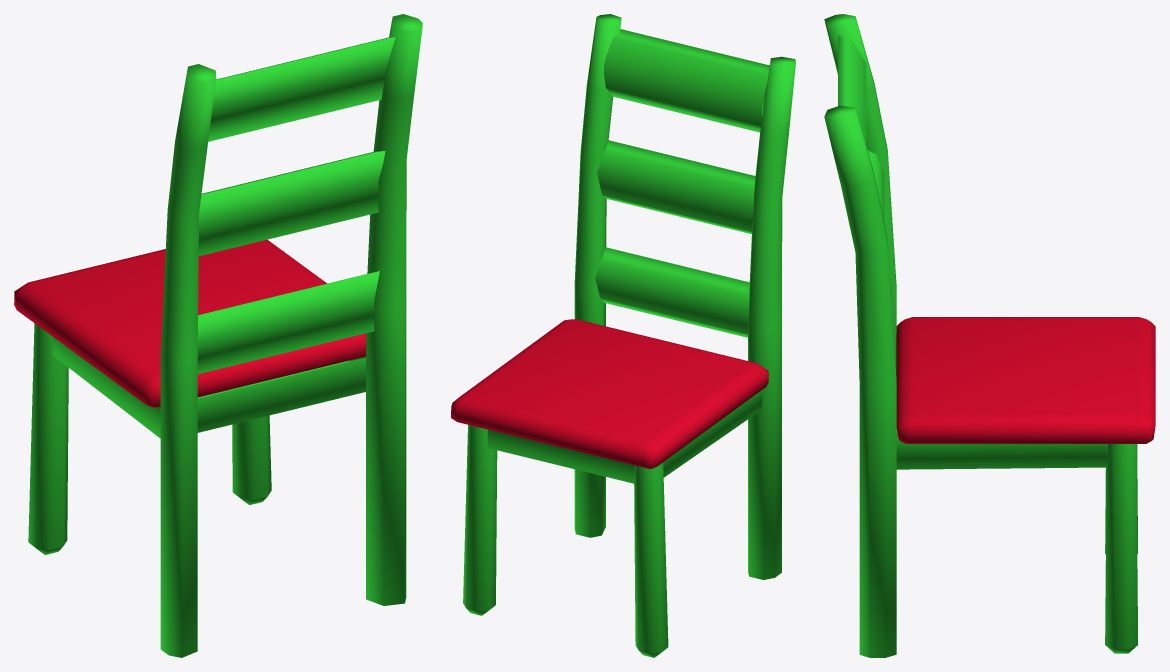
File: DiningChair.fbx
3 views of the same model, side by side, from view 1: azimuth 30°, elevation 25°; view 2: azimuth 150°, elevation 25°; view 3: azimuth 270°, elevation 25° (orthographic). The views are drawn at different scales.
Visible parts, largest first — view 1: Chair; view 2: Chair; view 3: Chair.
Part boxes in pixels (left/top/right/bottom): Chair: left=14, top=14, right=422, bottom=657; Chair: left=451, top=14, right=795, bottom=657; Chair: left=824, top=14, right=1155, bottom=657.
Bounding box in the file's own units: 48.9 × 112 × 62.46.
